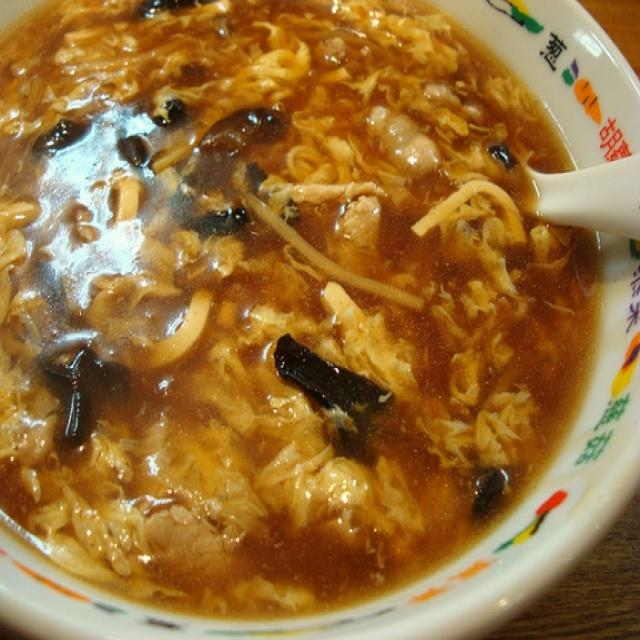面条主食: (11, 15, 629, 607)
